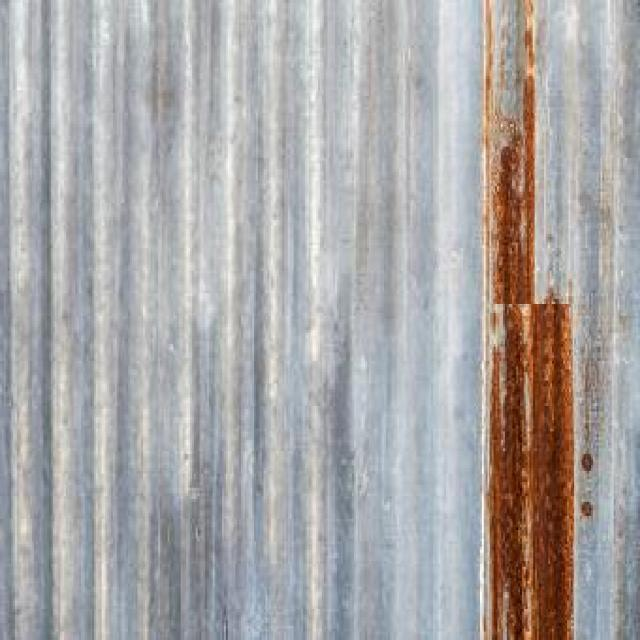Corrosion: (486, 0, 575, 640)
